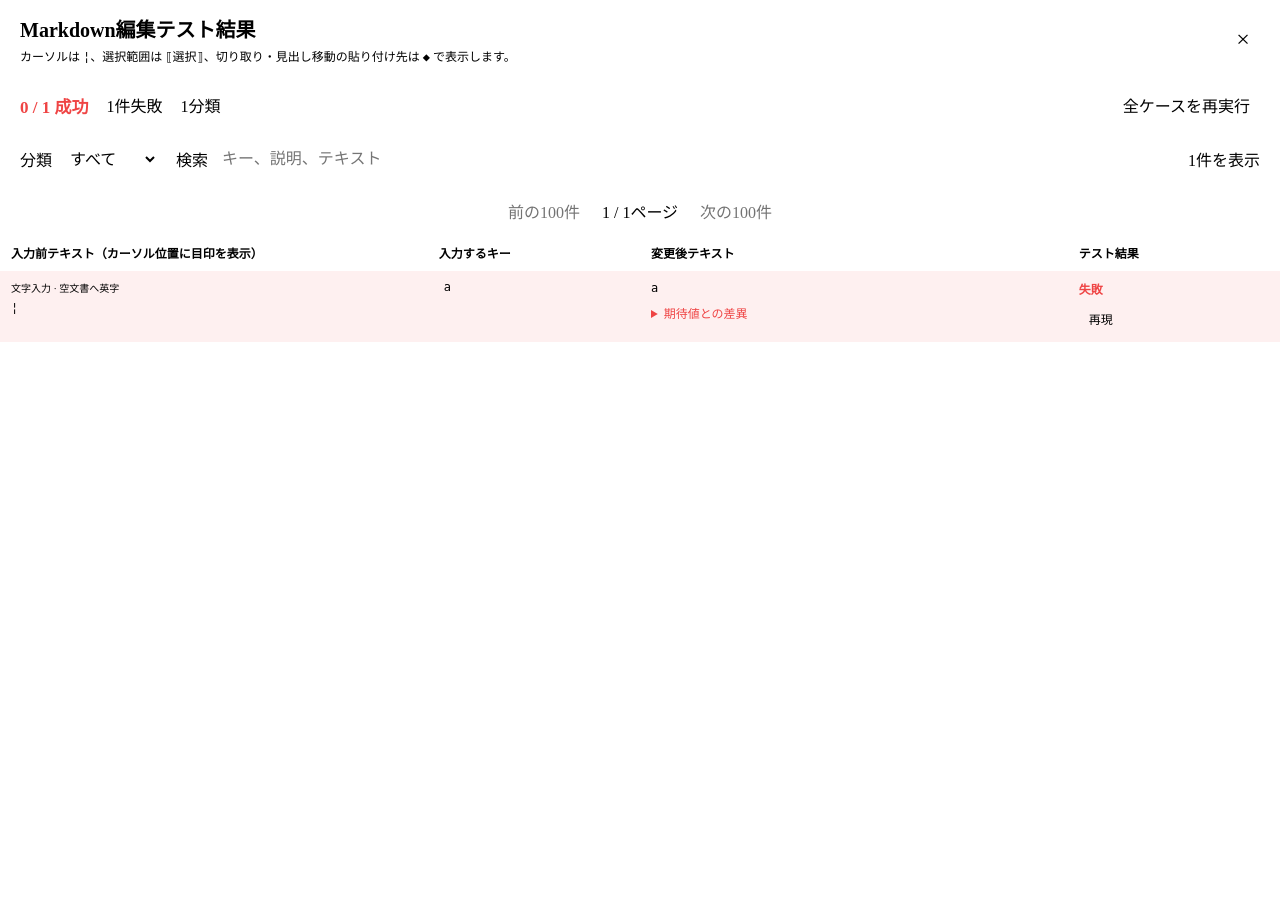
Test: EditingTestReport › 失敗の実際値と期待値との差異を表示する
Expected: the text "0 / 1 成功" is shown, [20,92,88,118]
Expected: the text "失敗" is shown, [1079,283,1103,297]
Click the heading "期待値との差異". click: (706, 314)
box: [664,307,748,321]
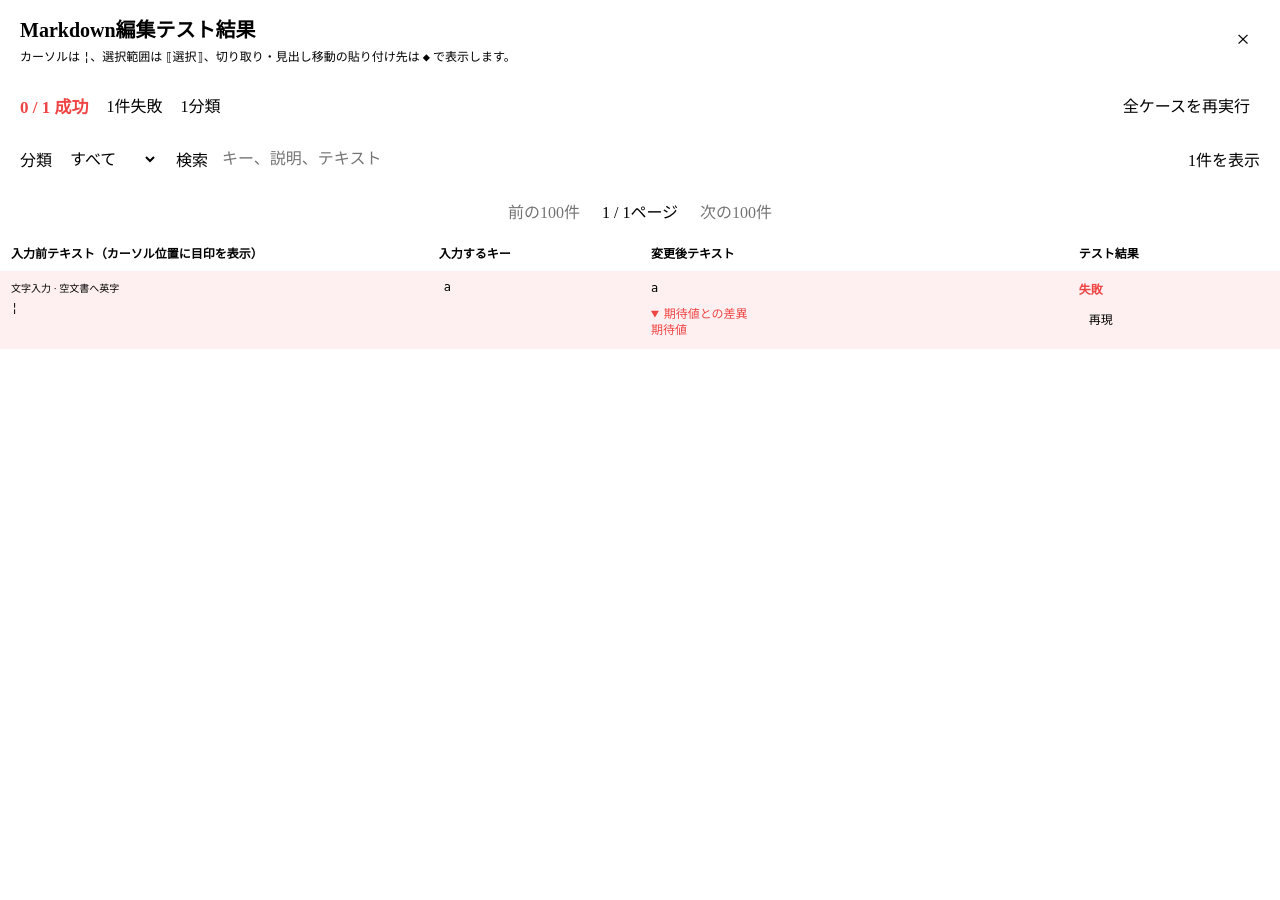
Expected: the text "期待値" is shown, [651,323,687,337]
